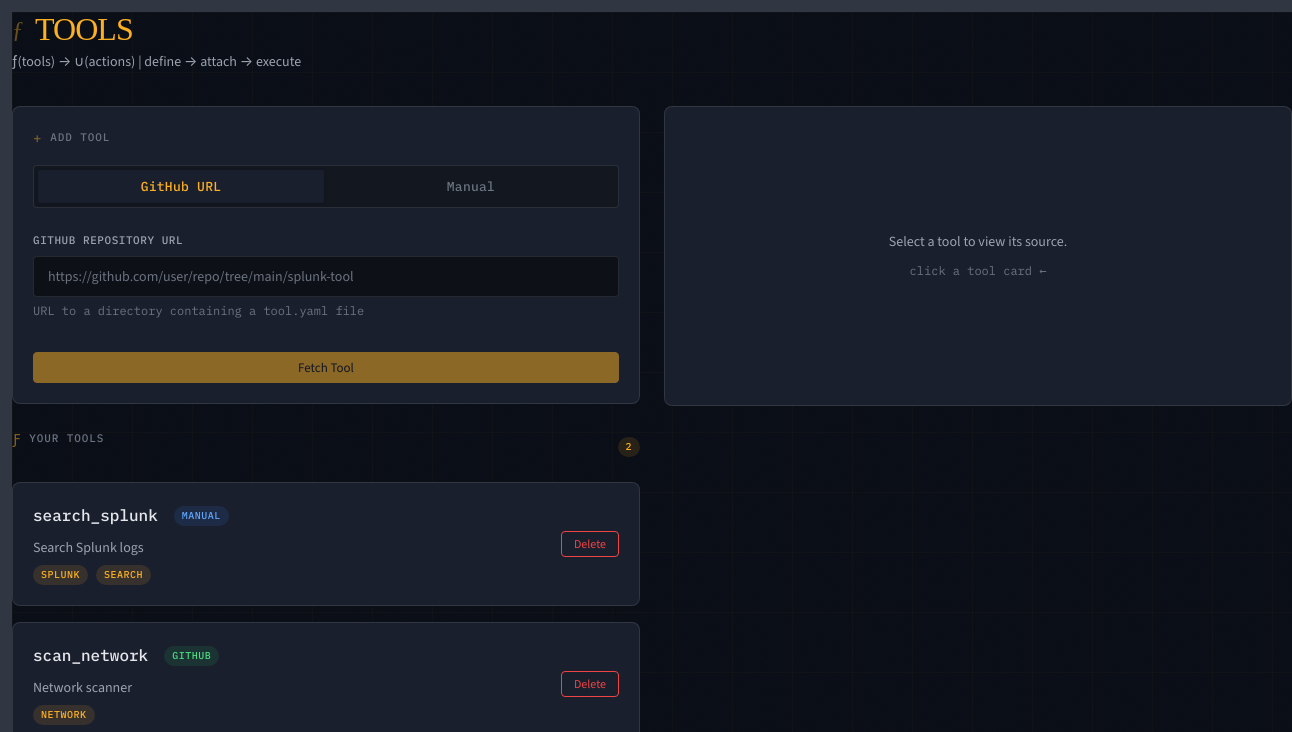
Scenario: Tools page › shows tool detail panel when clicking a tool card
The width and height of the screenshot is (1292, 732).
Note: Click the tool card
Click the heading "search_splunk".
click(95, 516)  # box [33, 503, 158, 529]
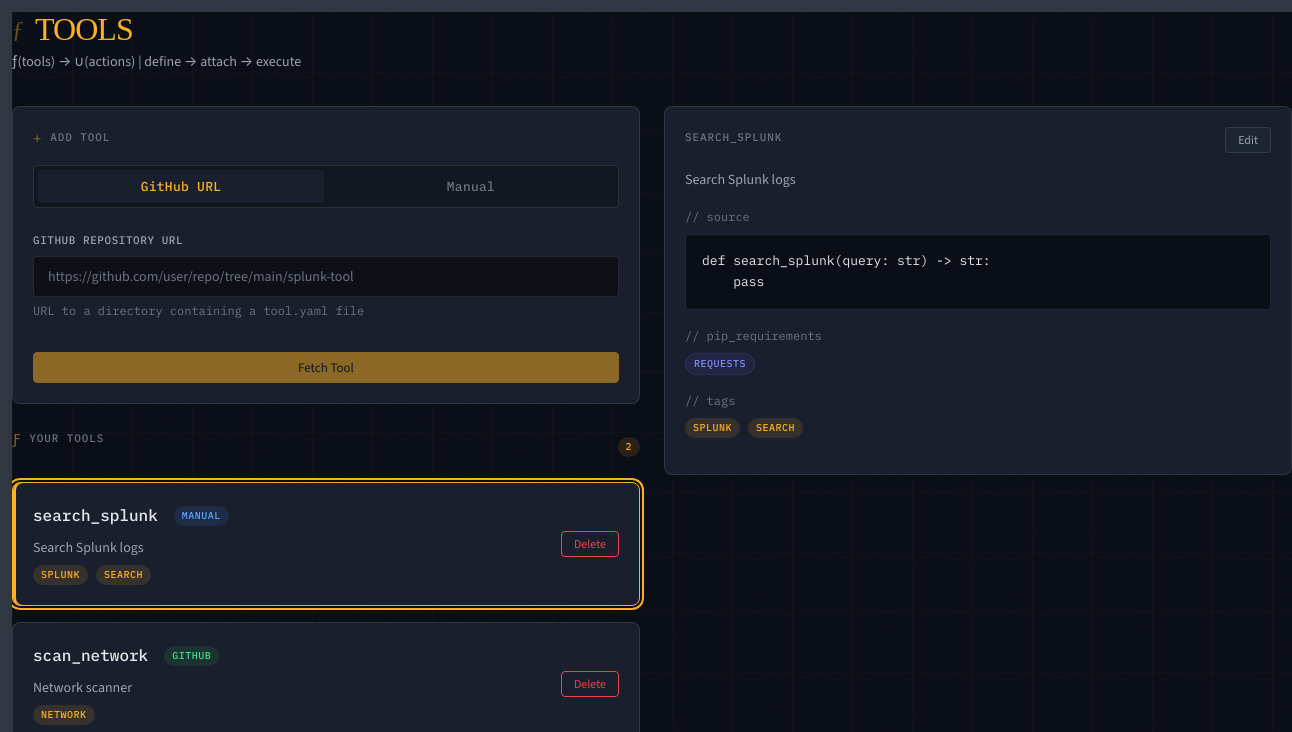
Expected: the text "// source" is shown, [685, 207, 750, 226]
